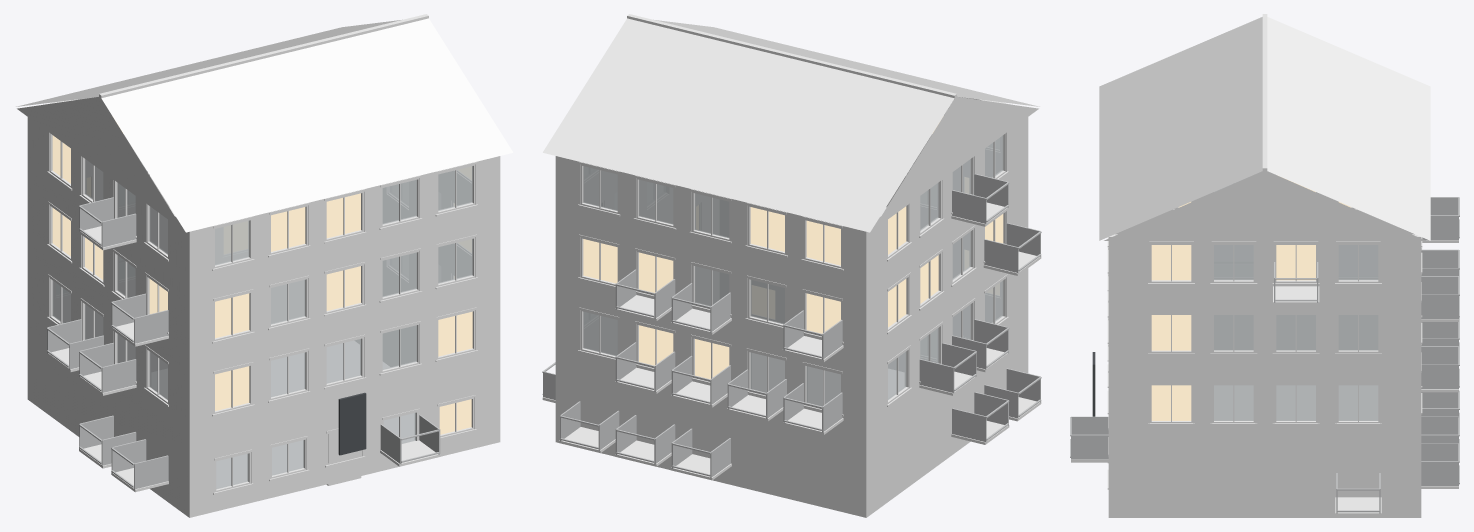
Rendered from Resbrick_residential_0000003.glb.
3 renders of one model, left to right at view 1: azimuth 30°, elevation 25°; view 2: azimuth 150°, elevation 25°; view 3: azimuth 270°, elevation 25°, orthographic. The views are drawn at different scales.
Visible parts, largest first — view 1: Resbrick_residential_0000003; view 2: Resbrick_residential_0000003; view 3: Resbrick_residential_0000003.
Boxes of the visible parts, box(x1,y1,x2,y2) form: Resbrick_residential_0000003: box(16, 14, 512, 517); Resbrick_residential_0000003: box(542, 14, 1041, 517); Resbrick_residential_0000003: box(1070, 14, 1459, 517).
Size of the model in its own units: 15.75 by 14.57 by 14.49.
